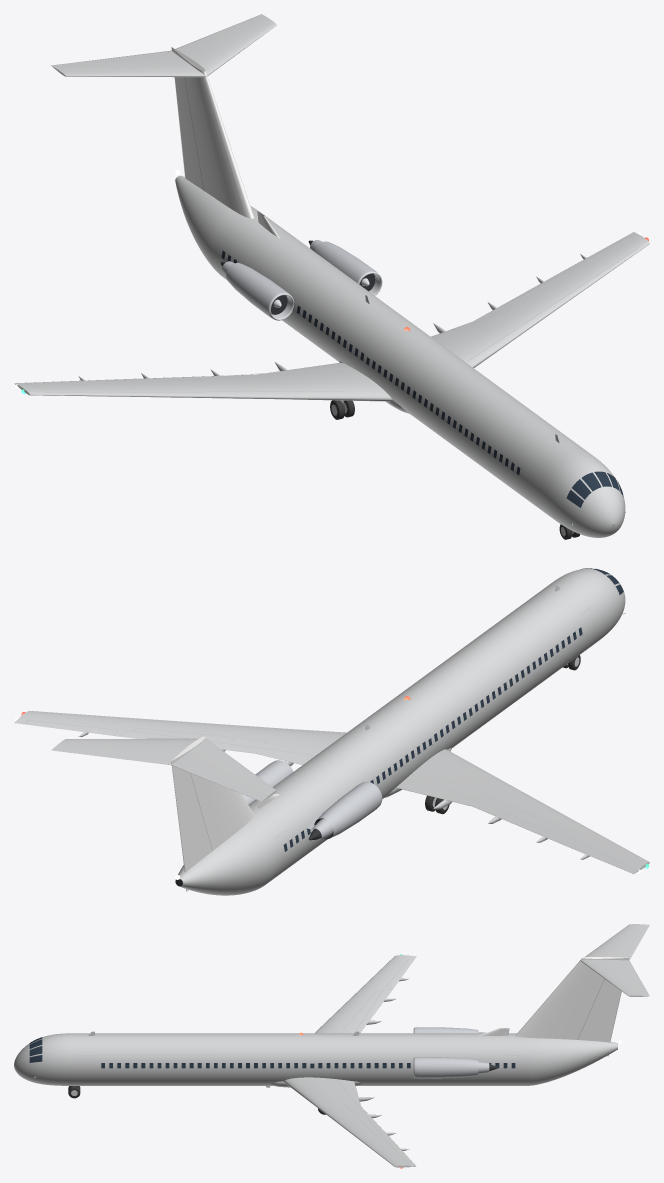
3 views of the same model, one above another, from view 1: azimuth 30°, elevation 25°; view 2: azimuth 150°, elevation 25°; view 3: azimuth 270°, elevation 25° (orthographic). The views are drawn at different scales.
Parts seen in each view (by area): view 1: airframe; view 2: airframe; view 3: airframe.
Boxes of the visible parts, x1,y1,x2,y2 form: airframe: (14,14,649,537); airframe: (14,568,649,895); airframe: (14,924,649,1168).
Bounding box in the file's own units: 33.17 × 10.06 × 41.9.
